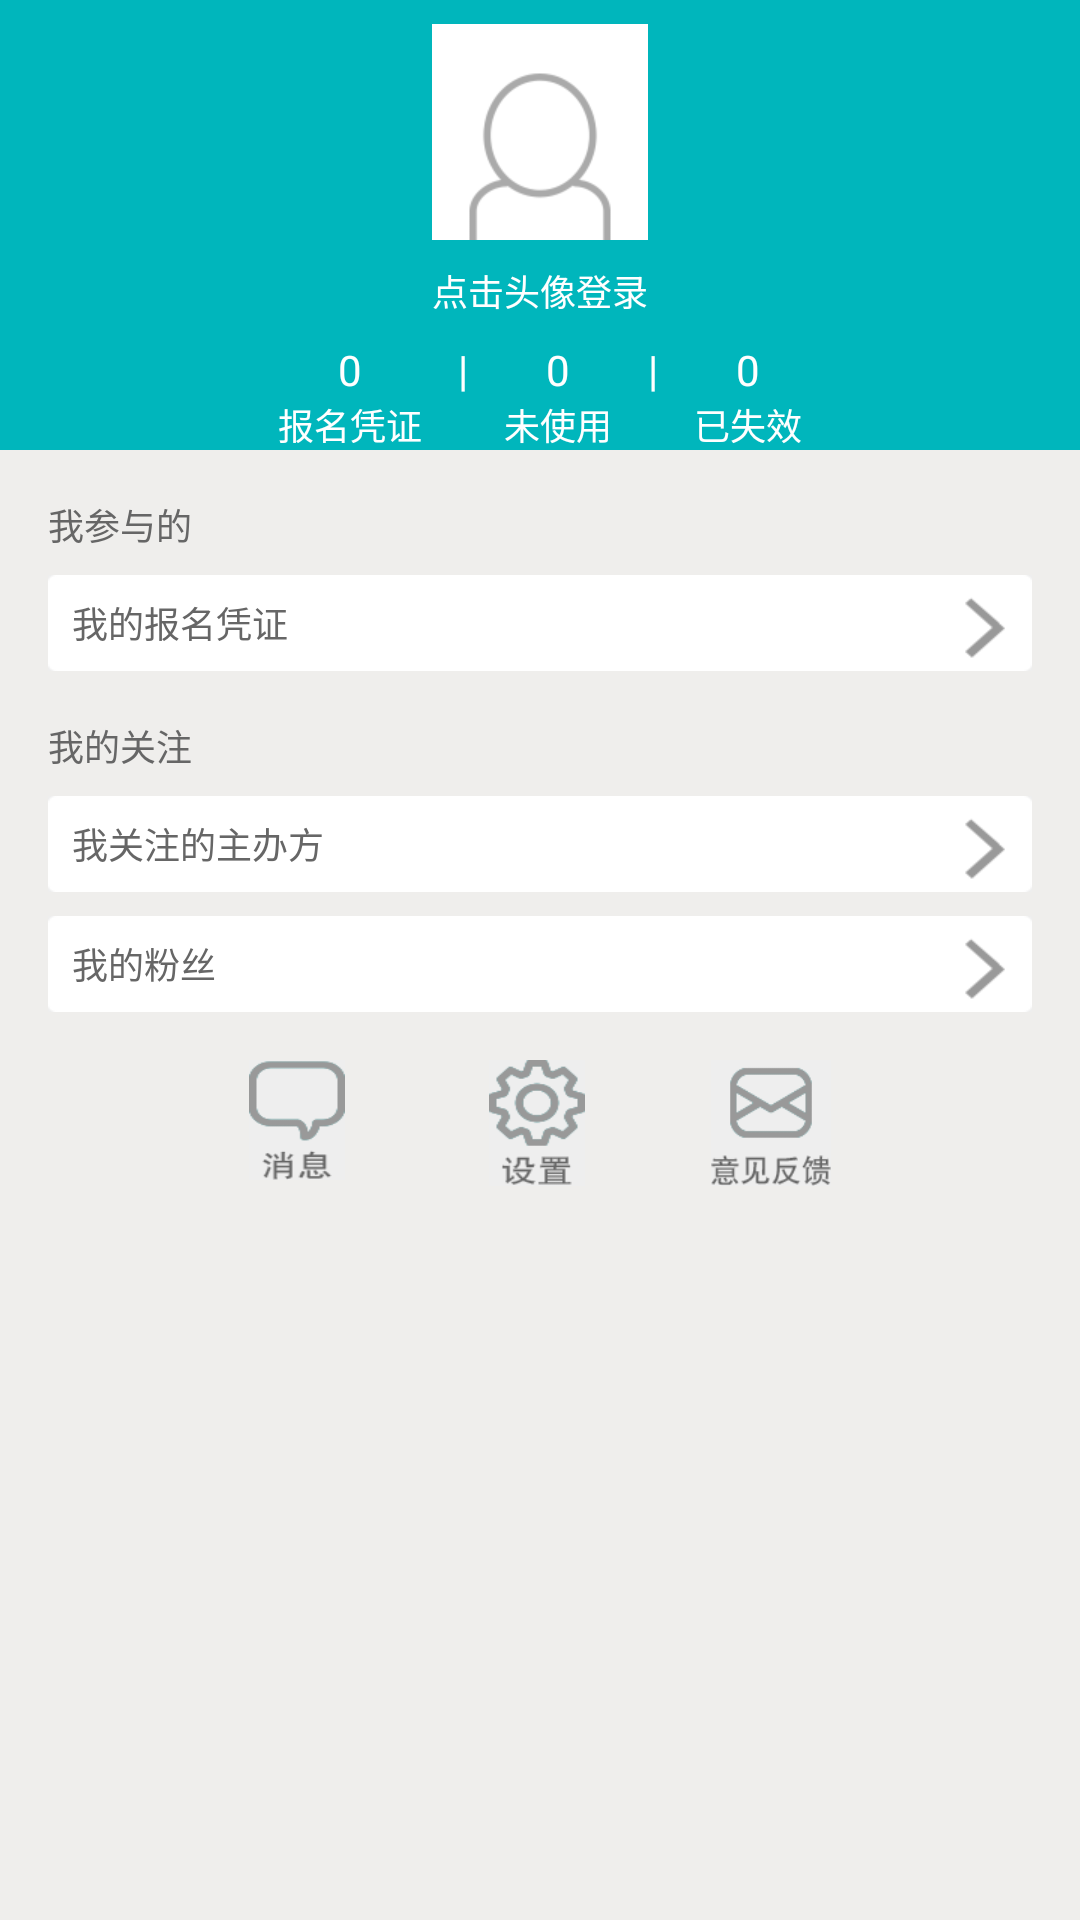

Icons on this 1080px x 1920px Android screen, each with the point to tap as [x,y]:
mybelonging head null: [540,132]
